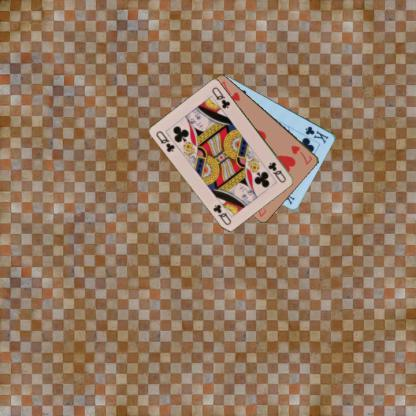7h: (288, 143, 314, 166)
Kc: (303, 124, 330, 145)
Qc: (154, 128, 176, 154), (266, 160, 287, 184)
